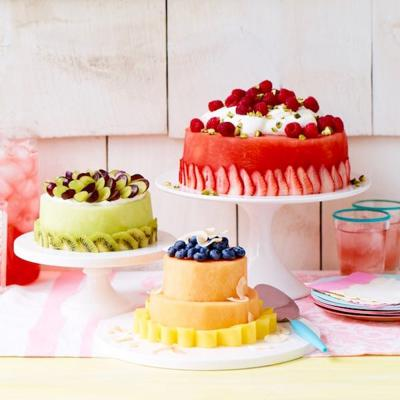cake: (178, 94, 356, 193), (135, 241, 282, 346), (34, 170, 161, 249)
